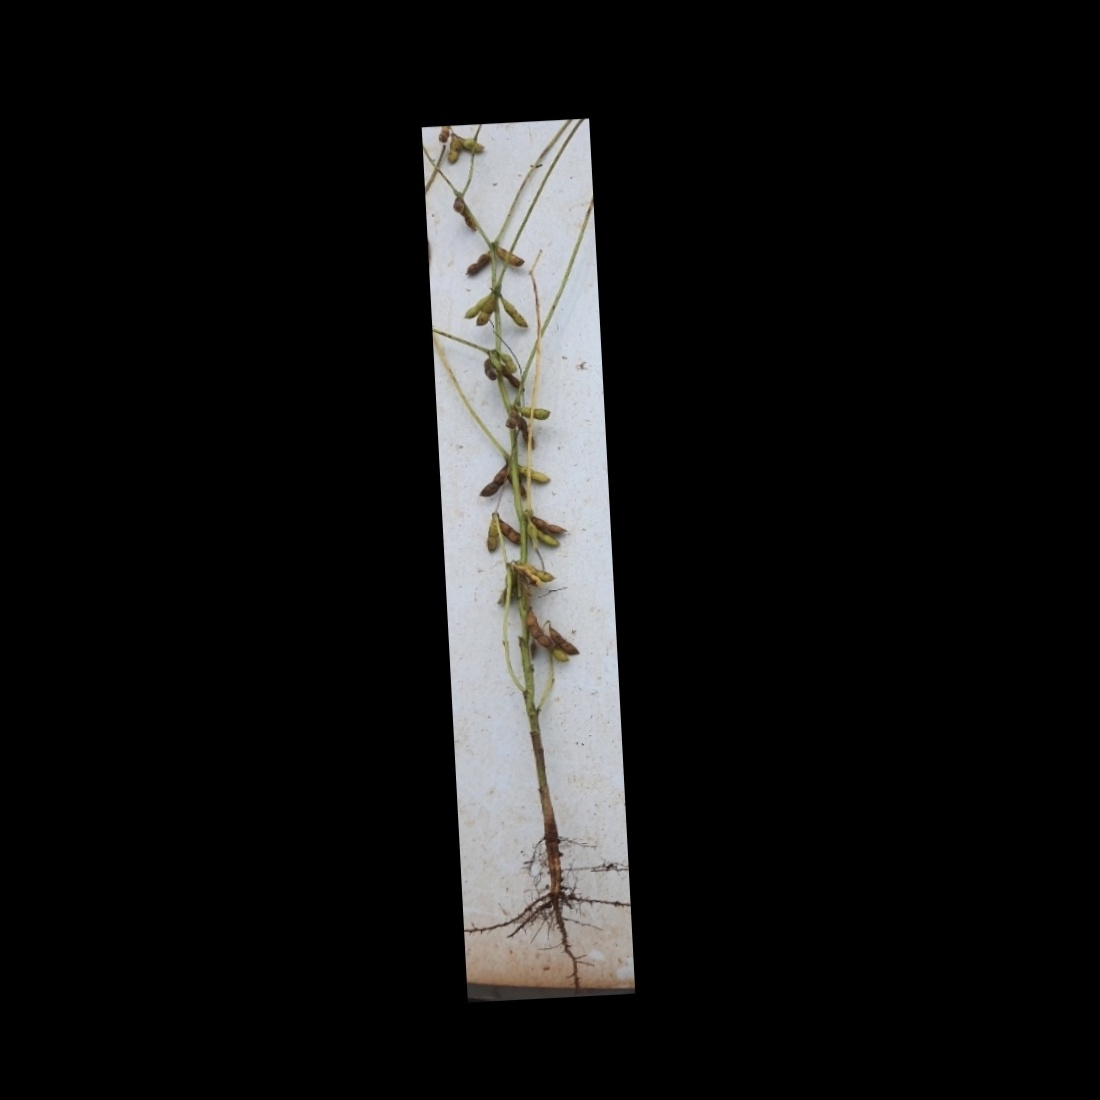pod: (524, 601, 550, 650), (500, 296, 531, 334), (475, 465, 510, 499), (492, 242, 530, 270), (516, 459, 552, 487), (461, 250, 494, 278), (494, 515, 522, 547), (518, 400, 554, 423), (482, 516, 499, 553), (443, 136, 462, 167)
soy: (426, 120, 617, 943)
